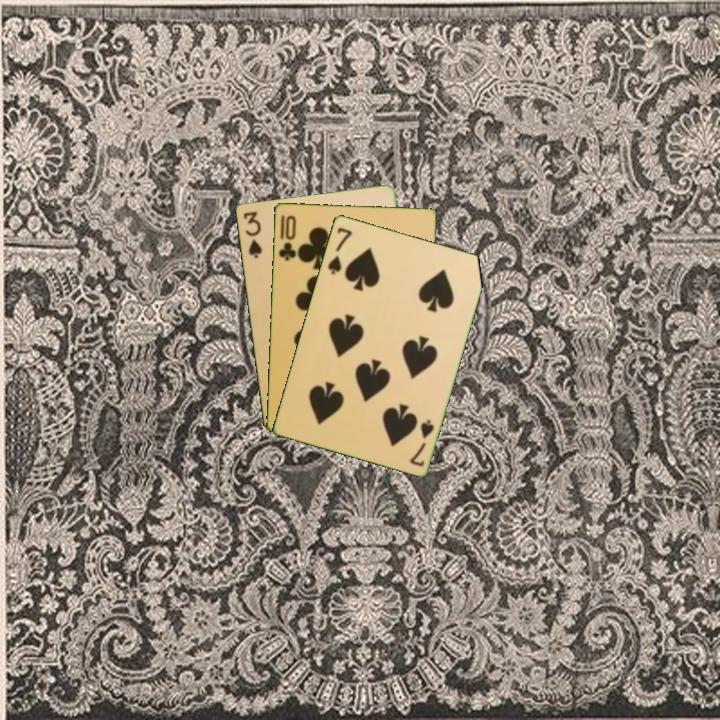10c: (275, 212, 299, 263)
3s: (240, 207, 265, 261)
7s: (324, 223, 355, 277), (406, 416, 437, 469)
